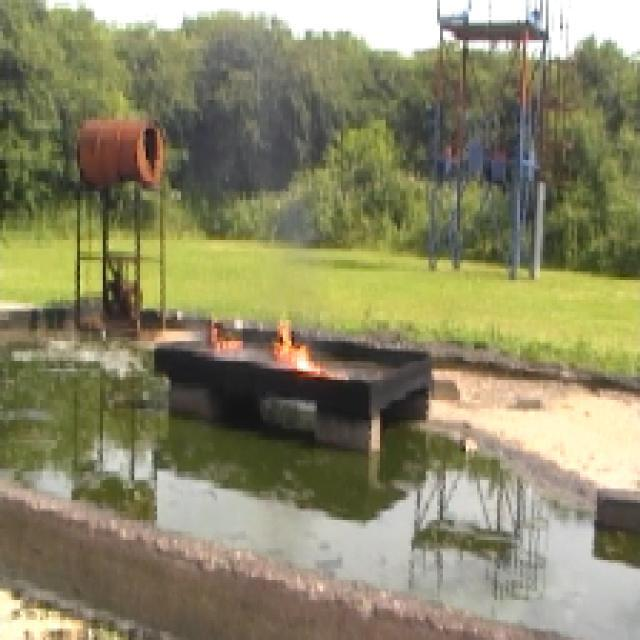Fire: (206, 318, 324, 370)
